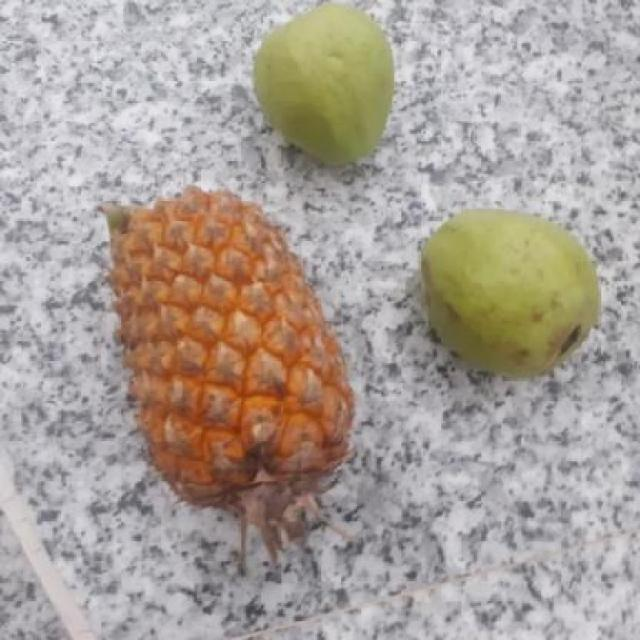guava: (407, 216, 596, 379), (248, 7, 394, 162)
pineapple: (100, 190, 358, 504)
